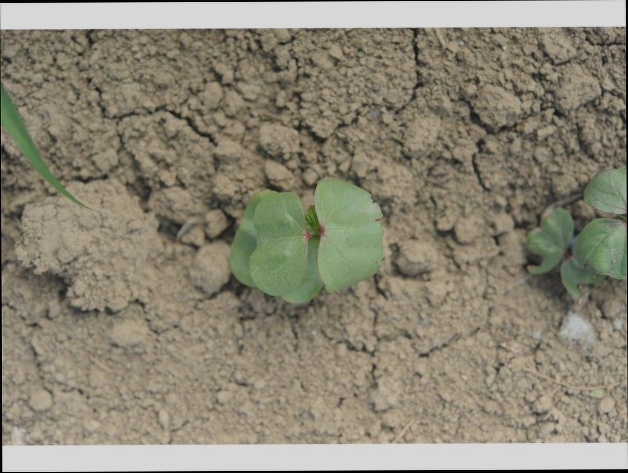cotton: (227, 176, 384, 306), (524, 166, 625, 298)
